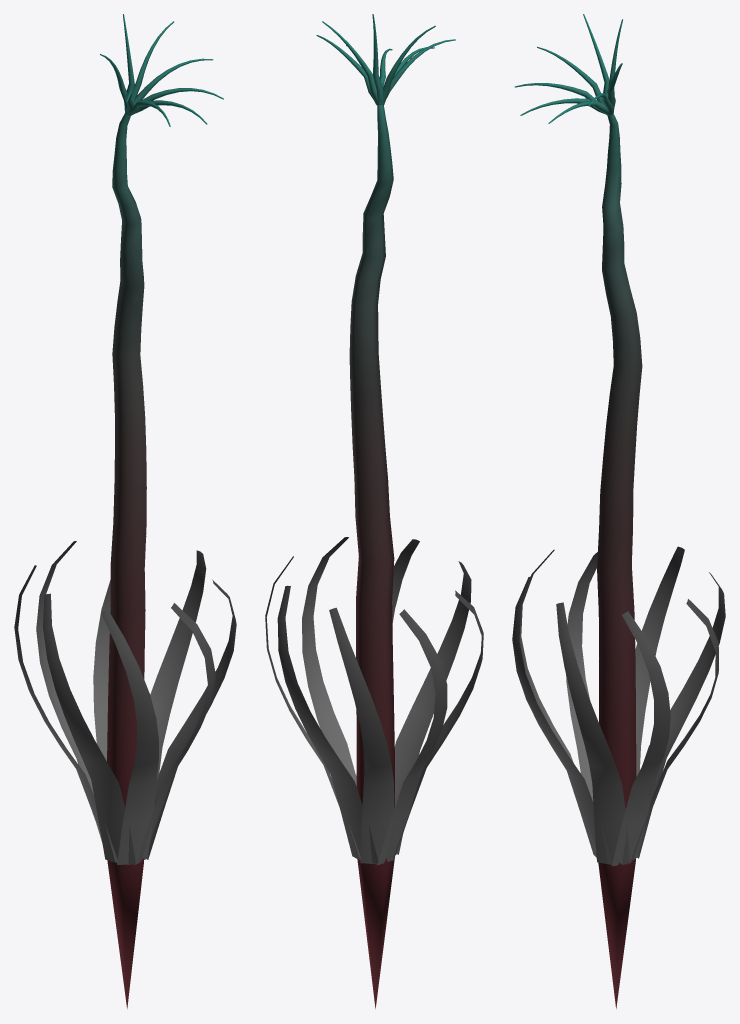
Rendered from plants-leafy-plants-curly-sprout_v2.glb.
3 views of the same model, side by side, from view 1: azimuth 30°, elevation 25°; view 2: azimuth 150°, elevation 25°; view 3: azimuth 270°, elevation 25° (orthographic).
Parts seen in each view (by area): view 1: Curly Sprout_v2; view 2: Curly Sprout_v2; view 3: Curly Sprout_v2.
Part boxes in pixels (<box>): Curly Sprout_v2: <box>14,14,236,1008</box>; Curly Sprout_v2: <box>265,14,483,1008</box>; Curly Sprout_v2: <box>512,14,725,1008</box>.
Size of the model in its own units: 0.0977 by 0.5 by 0.0977.
